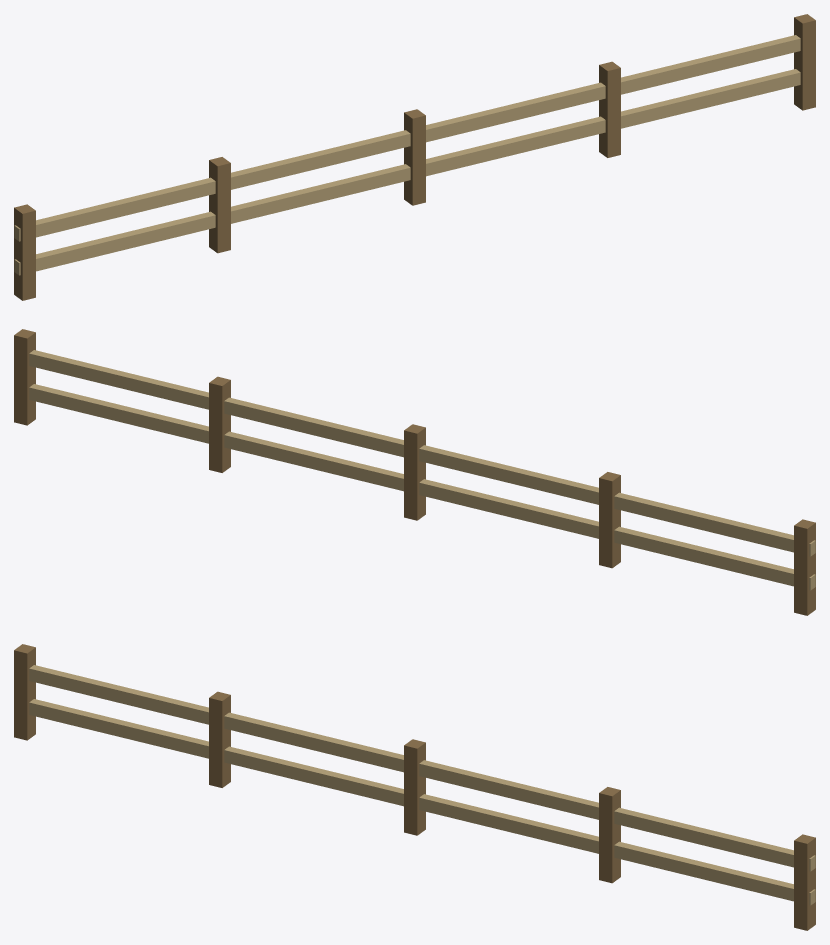
File: dune-fence.glb
3 views of the same model, one above another, from view 1: azimuth 30°, elevation 25°; view 2: azimuth 150°, elevation 25°; view 3: azimuth 330°, elevation 25° (orthographic).
Visible parts, largest first — view 1: dune-fence; view 2: dune-fence; view 3: dune-fence.
Boxes of the visible parts, left/top/right/bottom form: dune-fence: left=14, top=14, right=815, bottom=300; dune-fence: left=14, top=329, right=815, bottom=615; dune-fence: left=14, top=644, right=815, bottom=930.
Size of the model in its own units: 10.72 by 1.12 by 0.2.
